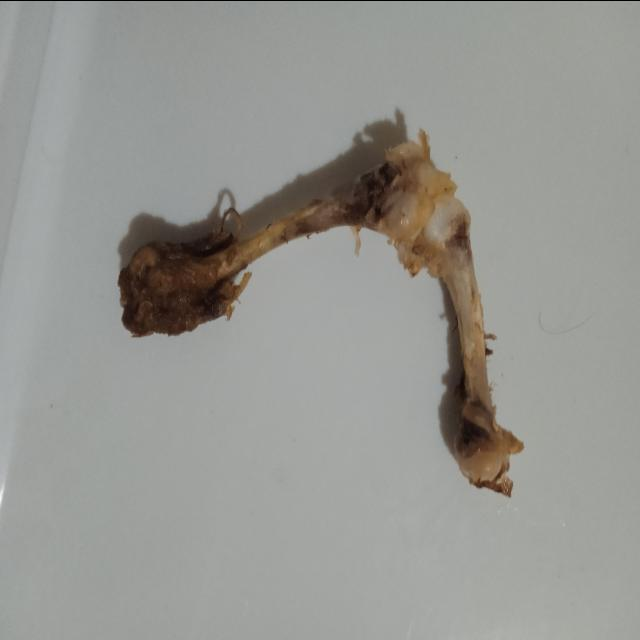bone: (101, 106, 537, 520)
